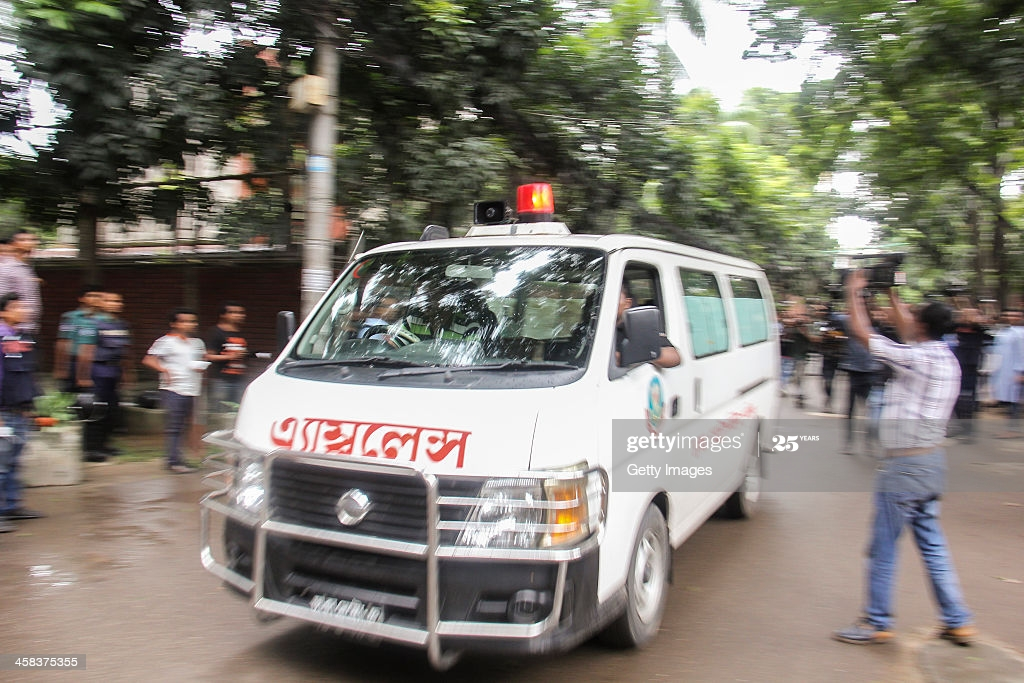ambulance: (197, 180, 785, 668)
